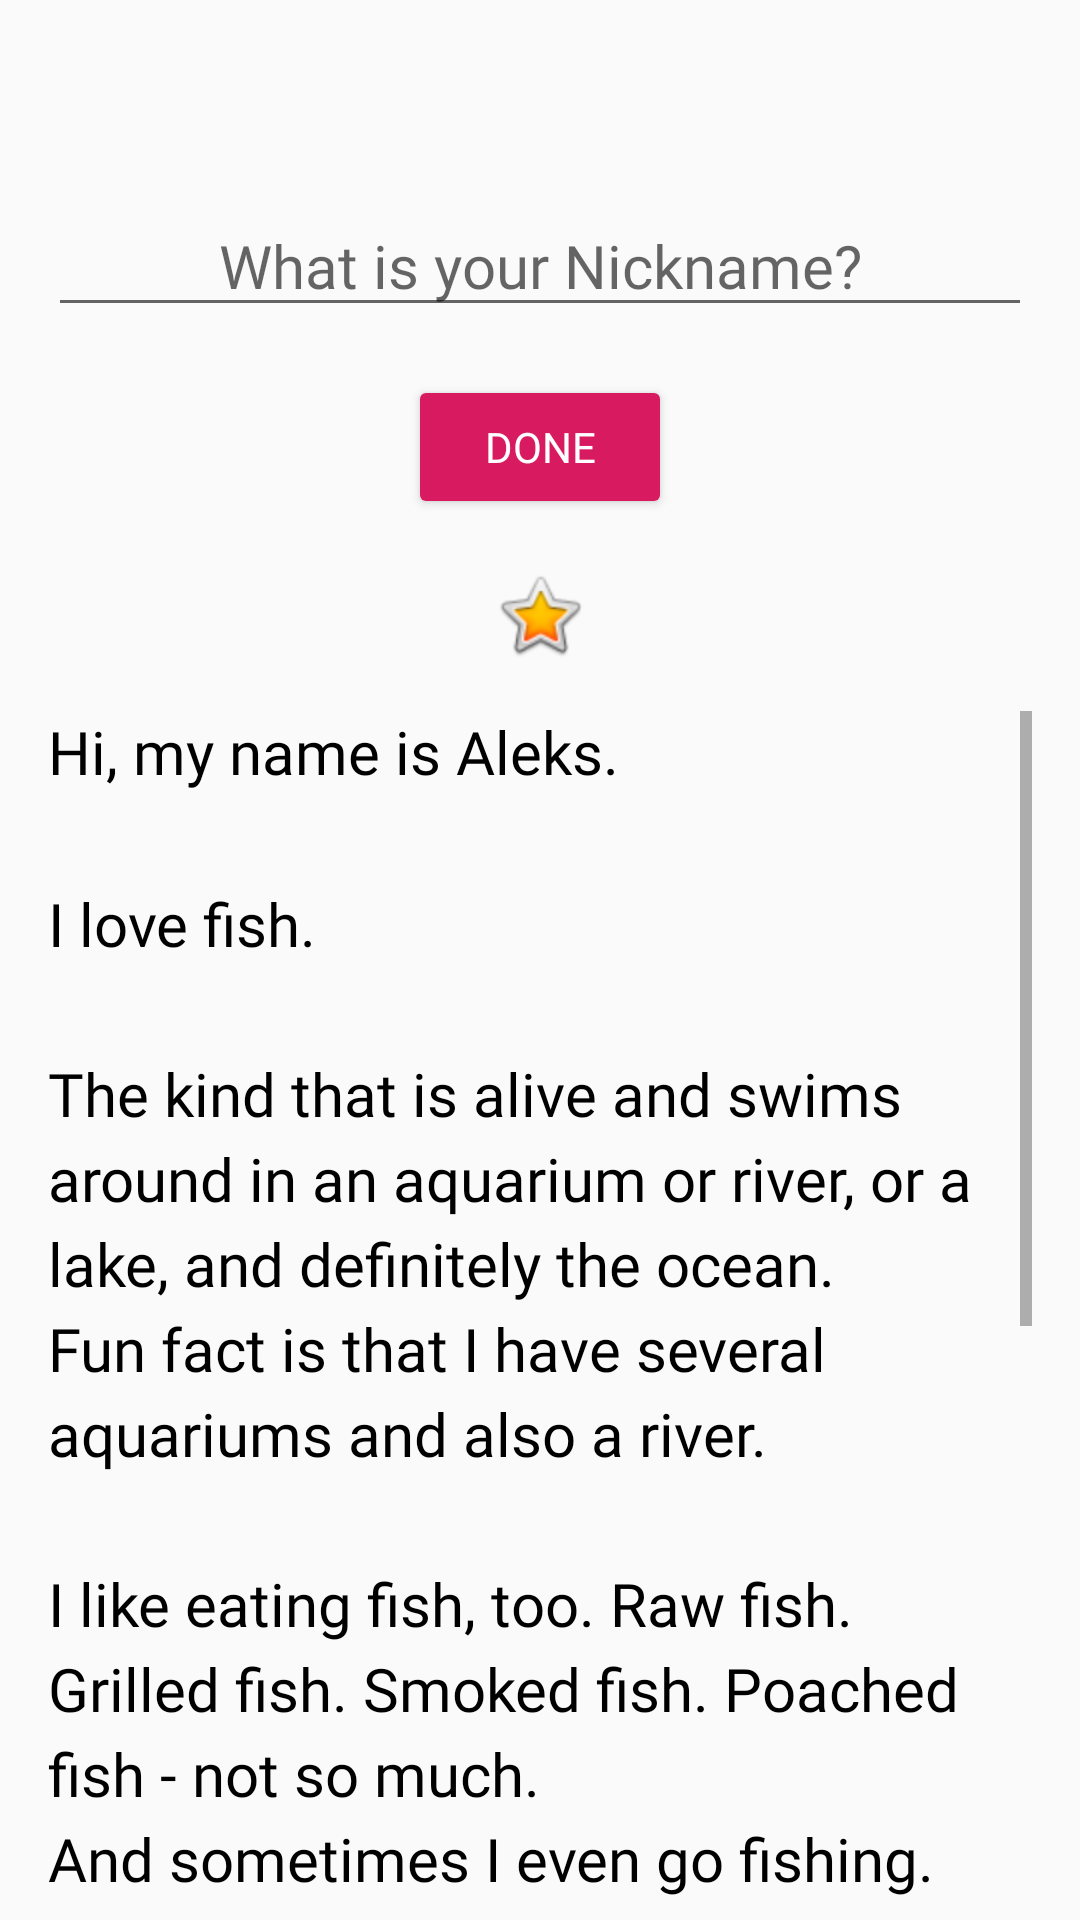

Icons on this 1080w x 1920h Android screen, each with its box as (x1, y1, x2, y2):
Yellow star: (501, 577, 581, 655)
